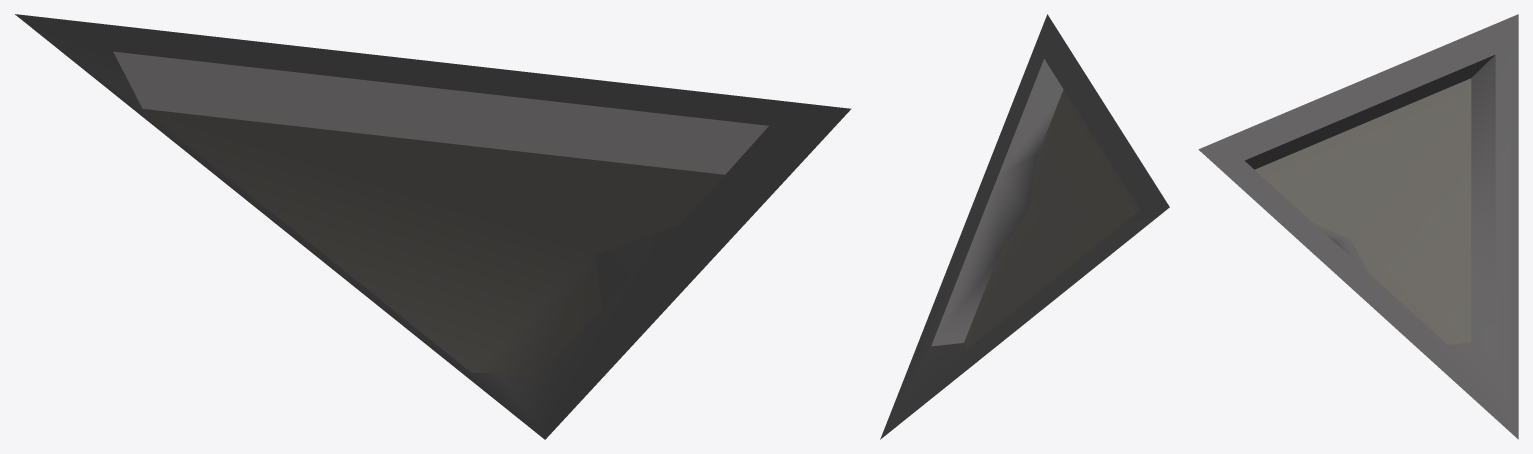
Rendered from SM_Env_Ceiling_Stone_Curved_Corner_02.FBX.
3 renders of one model, left to right at view 1: azimuth 30°, elevation 25°; view 2: azimuth 150°, elevation 25°; view 3: azimuth 270°, elevation 25°, orthographic. The views are drawn at different scales.
Parts seen in each view (by area): view 1: SM_Env_Ceiling_Stone_Curved_Corner_02; view 2: SM_Env_Ceiling_Stone_Curved_Corner_02; view 3: SM_Env_Ceiling_Stone_Curved_Corner_02.
Part boxes in pixels (left/top/right/bottom): SM_Env_Ceiling_Stone_Curved_Corner_02: left=15, top=14, right=851, bottom=439; SM_Env_Ceiling_Stone_Curved_Corner_02: left=880, top=14, right=1169, bottom=439; SM_Env_Ceiling_Stone_Curved_Corner_02: left=1198, top=14, right=1518, bottom=439.
Size of what is drawn, in the model's own units: 250 by 250 by 250.
